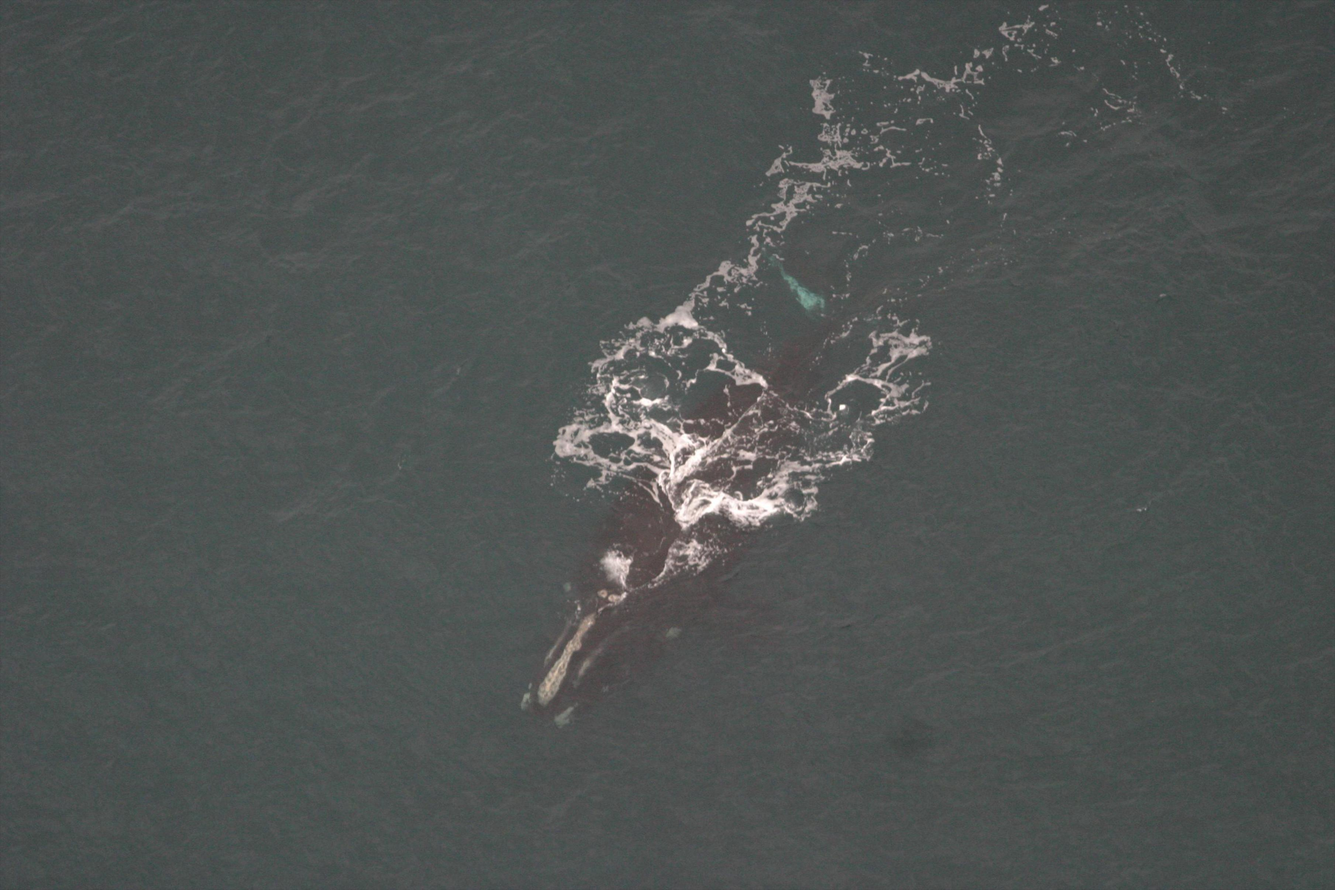whale: (512, 239, 948, 741)
